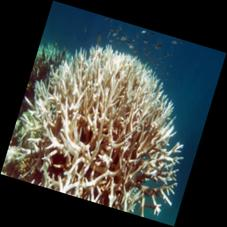bleached_corals: (0, 25, 215, 227)
